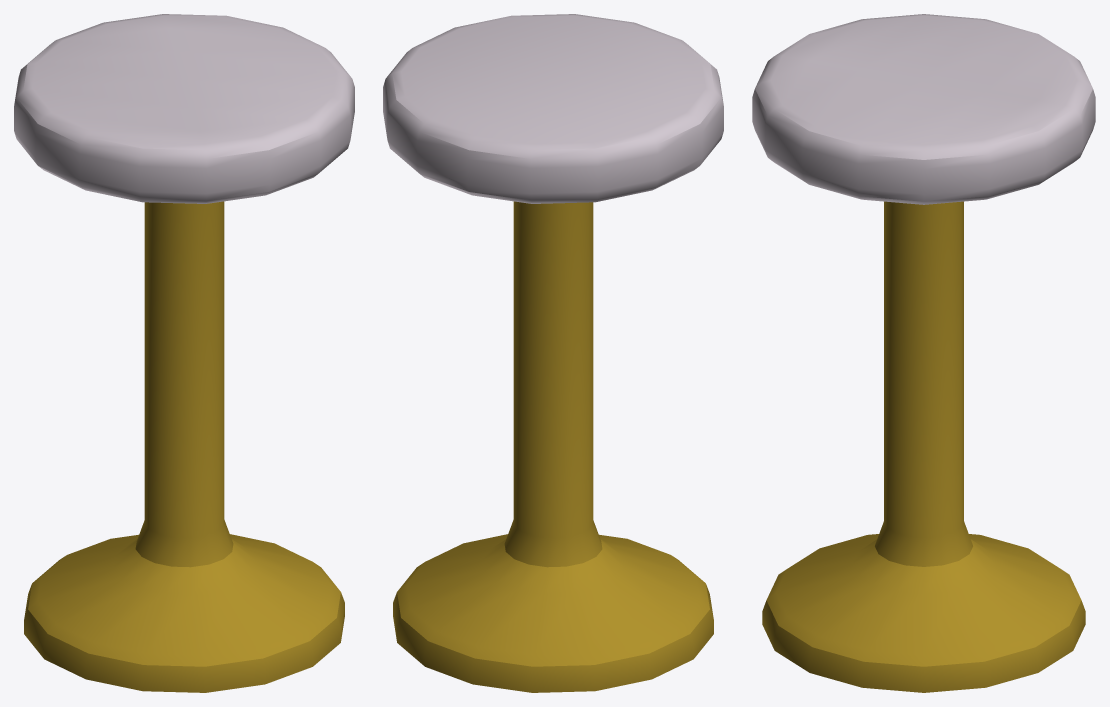
File: chair.fbx
3 renders of one model, left to right at view 1: azimuth 30°, elevation 25°; view 2: azimuth 150°, elevation 25°; view 3: azimuth 270°, elevation 25°, orthographic.
Visible parts, largest first — view 1: Cylinder.003; view 2: Cylinder.003; view 3: Cylinder.003.
Part boxes in pixels (x1,y1,x2,y2): Cylinder.003: (14,14,354,692); Cylinder.003: (383,14,723,692); Cylinder.003: (752,14,1095,692).
Bounding box in the file's own units: 54.68 × 95.71 × 54.68.
